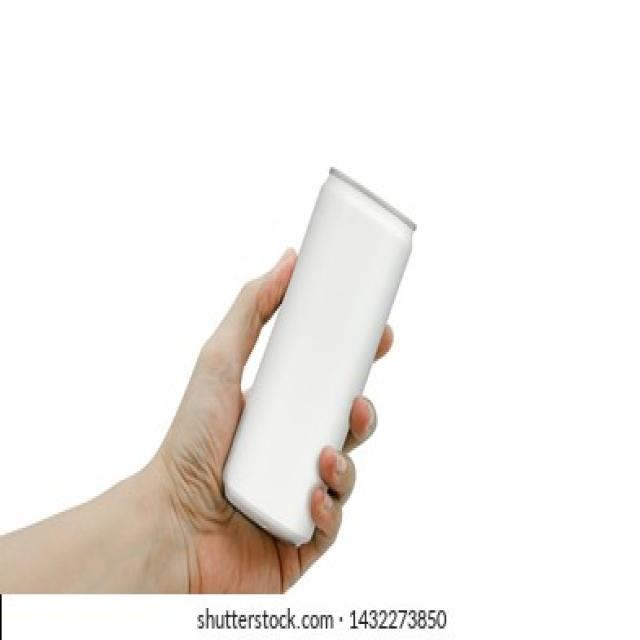soda_can: (202, 146, 449, 578)
